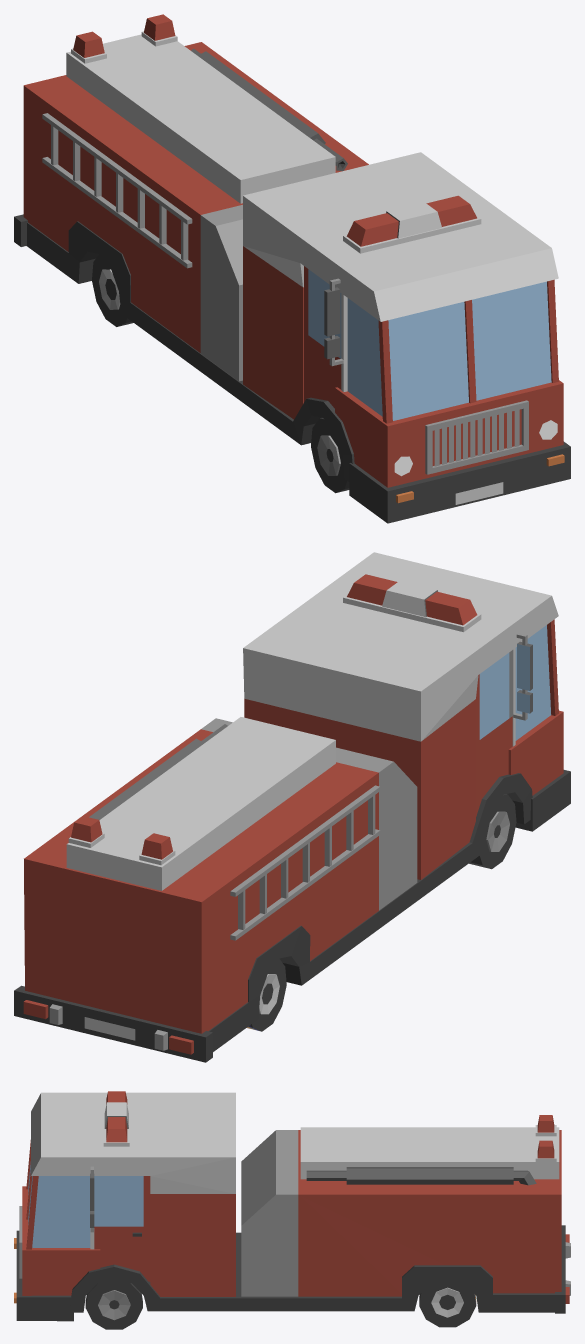
Rendered from transport_purpose_006.fbx.
3 views of the same model, one above another, from view 1: azimuth 30°, elevation 25°; view 2: azimuth 150°, elevation 25°; view 3: azimuth 270°, elevation 25° (orthographic). The views are drawn at different scales.
Visible parts, largest first — view 1: transport_purpose_006; view 2: transport_purpose_006; view 3: transport_purpose_006.
Boxes of the visible parts, x1,y1,x2,y2 form: transport_purpose_006: (14, 14, 570, 523); transport_purpose_006: (14, 552, 570, 1062); transport_purpose_006: (14, 1091, 570, 1329).
Bounding box in the file's own units: 202 × 241 × 638.
